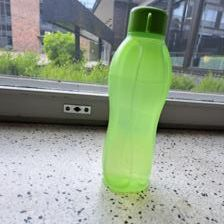bottle: (100, 4, 180, 192)
